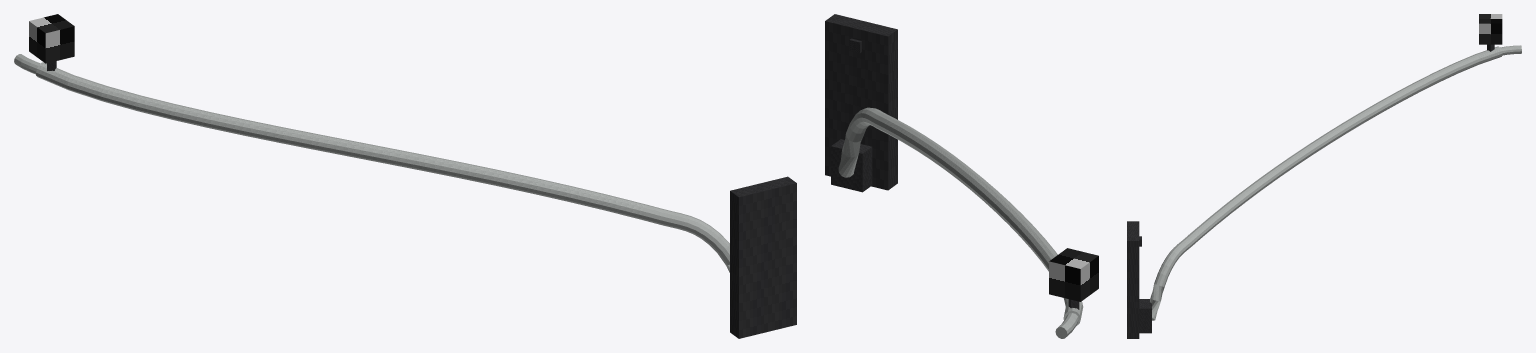
Rendered from arm_4_left.obj.
3 views of the same model, side by side, from view 1: azimuth 30°, elevation 25°; view 2: azimuth 150°, elevation 25°; view 3: azimuth 270°, elevation 25° (orthographic). The views are drawn at different scales.
Parts seen in each view (by area): view 1: pole_light_mount_4_left; view 2: pole_light_mount_4_left; view 3: pole_light_mount_4_left.
Boxes of the visible parts, x1=… form: pole_light_mount_4_left: x1=14, y1=14, x2=796, y2=338; pole_light_mount_4_left: x1=825, y1=14, x2=1098, y2=338; pole_light_mount_4_left: x1=1127, y1=14, x2=1521, y2=338.
Bounding box in the file's own units: 3.22 × 1.4 × 3.19.
